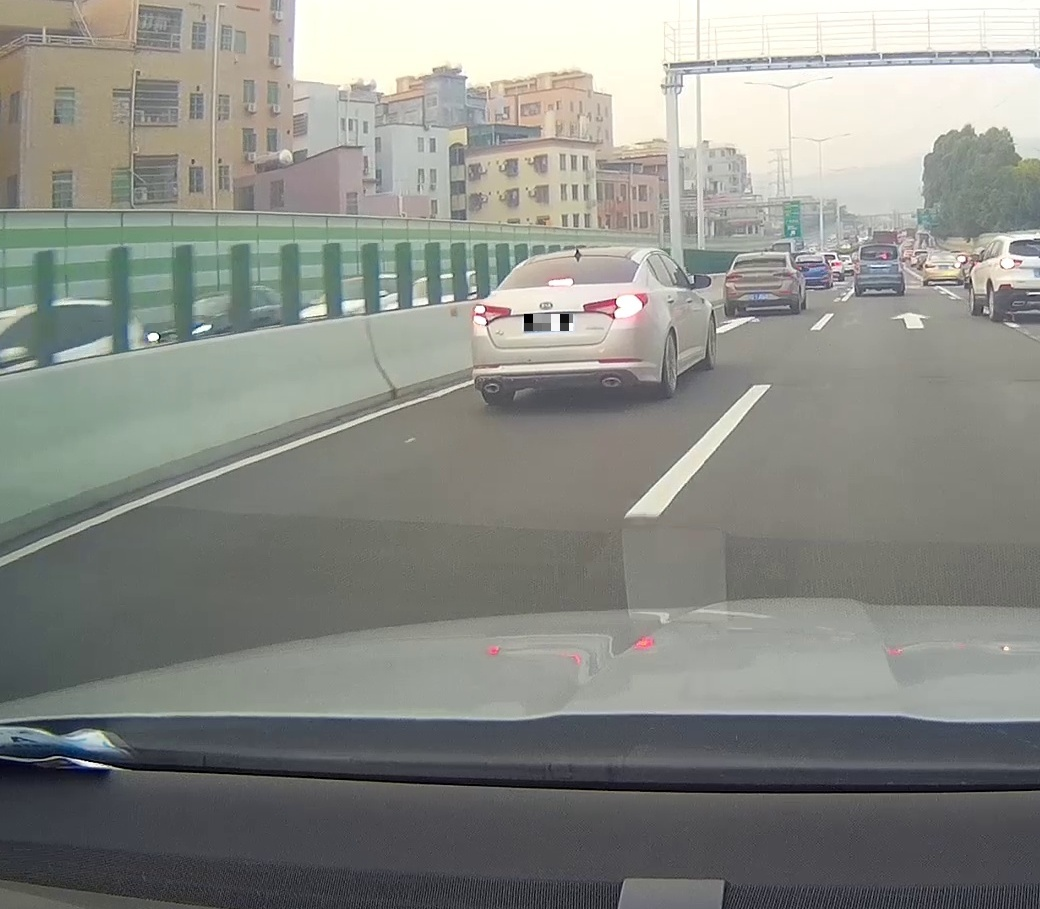L_light: (473, 304, 511, 326), (727, 274, 742, 280)
R_light: (583, 293, 647, 318), (775, 272, 792, 278)
T_light: (549, 278, 573, 286), (757, 258, 767, 261)
day-brake: (472, 252, 650, 407)
day-no: (725, 253, 794, 315)
plate_1: (524, 314, 573, 331)
